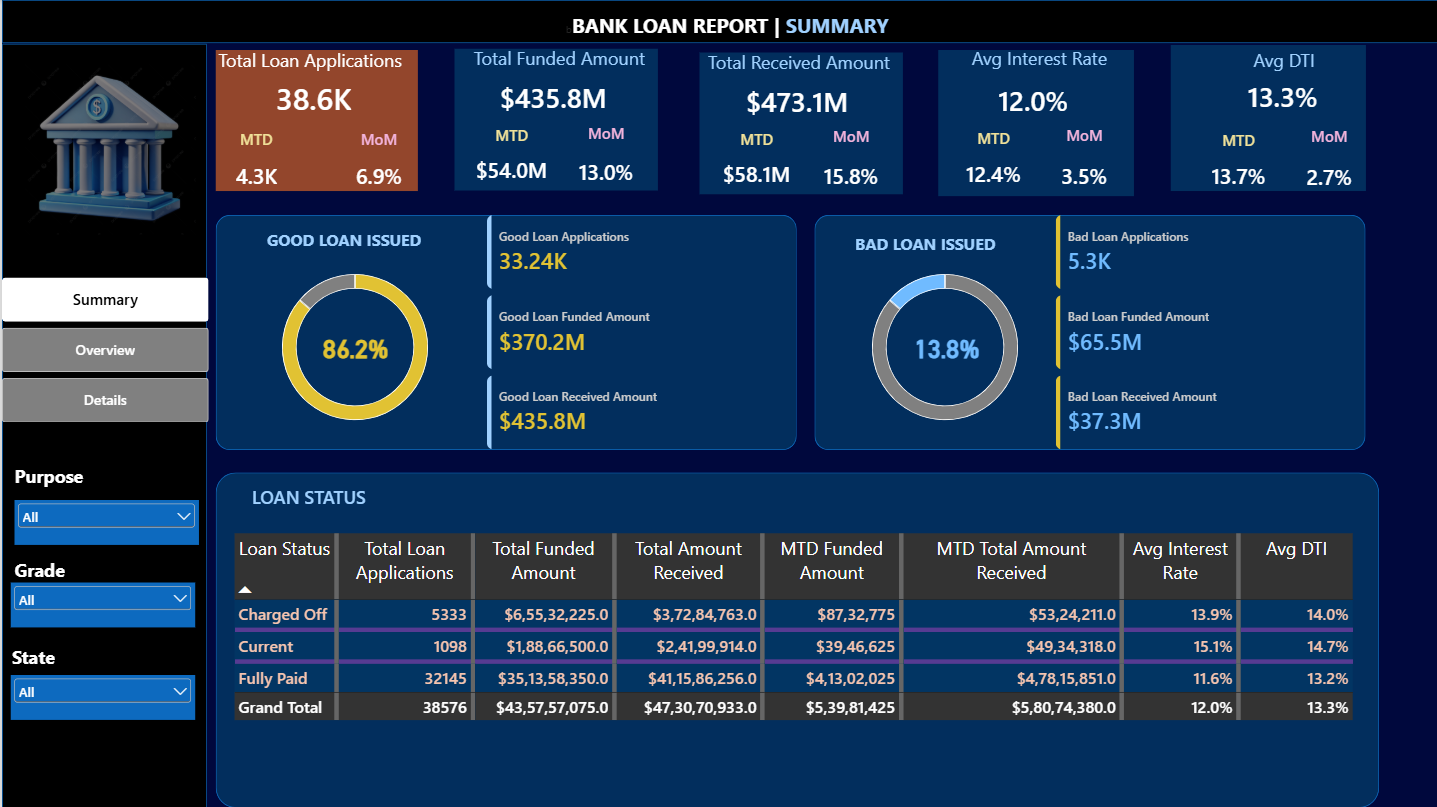

What the dashboard file says about the page in this screenshot:
{"tool":"powerbi","page":{"name":"Summary","canvas":[1920,1080],"ordinal":0},"visuals":[{"type":"shape","box":[1562,60,260.7,195],"z":0,"group":"g5"},{"type":"shape","box":[605.3,65.8,271.7,189.4],"z":0,"group":"g2"},{"type":"shape","box":[1251.3,65.9,261.4,195.4],"z":0,"group":"g4"},{"type":"shape","box":[286,68.1,270,188.4],"z":0,"group":"g1"},{"type":"shape","box":[930.4,69.9,271.7,189.4],"z":0,"group":"g3"},{"type":"shape","box":[286,288,776,314],"z":0},{"type":"shape","box":[0,0,1920.4,57.6],"z":1000},{"type":"cardVisual","fields":{"Data":["financial_loan.Avg DTI"]},"box":[1627.7,91.8,169.9,72.1],"z":1000,"group":"g5"},{"type":"cardVisual","fields":{"Data":["financial_loan.Total Funded Amount"]},"box":[648.7,95.1,177,70],"z":1000,"group":"g2"},{"type":"cardVisual","fields":{"Data":["financial_loan.Avg Interest Rate"]},"box":[1293,96.2,170.3,72.2],"z":1000,"group":"g4"},{"type":"cardVisual","fields":{"Data":["financial_loan.Total Loan Applications"]},"box":[329,96.8,175.9,67.6],"z":1000,"group":"g1"},{"type":"cardVisual","fields":{"Data":["financial_loan.Total Amount Received"]},"box":[973.8,99.3,177,70],"z":1000,"group":"g3"},{"type":"shape","box":[0,57.6,273.8,1023],"z":2000},{"type":"textbox","box":[613.5,61.7,263.5,65.9],"z":2000,"group":"g2"},{"type":"textbox","box":[1259.2,61.7,253.5,68],"z":2000,"group":"g4"},{"type":"textbox","box":[290,64,266,66],"z":2000,"group":"g1"},{"type":"textbox","box":[1587.1,64.1,252.8,67.8],"z":2000,"group":"g5"},{"type":"textbox","box":[926.2,66.1,275.8,65.9],"z":2000,"group":"g3"},{"type":"cardVisual","title":"MTD","fields":{"Data":["financial_loan.MTD Funded Amount"]},"box":[617.8,167.2,129.7,78.2],"z":3000,"group":"g2"},{"type":"cardVisual","title":"MTD","fields":{"Data":["financial_loan.MTD Avg Int Rate"]},"box":[1263.3,170.6,124.8,80.7],"z":3000,"group":"g4"},{"type":"cardVisual","title":"MTD","fields":{"Data":["financial_loan.MTD Total Amount Received"]},"box":[942.9,171.3,129.7,78.2],"z":3000,"group":"g3"},{"type":"cardVisual","title":"MTD","fields":{"Data":["financial_loan.MTD Loan Applications"]},"box":[294.2,172.5,92,84],"z":3000,"group":"g1"},{"type":"cardVisual","title":"MTD","fields":{"Data":["financial_loan.MTD Avg DTI"]},"box":[1591.2,172.7,124.4,80.6],"z":3000,"group":"g5"},{"type":"cardVisual","fields":{"Data":["financial_loan.Good Loan %"]},"box":[404,432,136,68],"z":3000},{"type":"textbox","box":[753.3,14.4,461.1,59.7],"z":4000},{"type":"cardVisual","title":"MoM","fields":{"Data":["financial_loan.MoM Total Funded Amount"]},"box":[747.5,163.1,121.4,88.5],"z":4000,"group":"g2"},{"type":"cardVisual","title":"MoM","fields":{"Data":["financial_loan.MoM Avg Int Rate"]},"box":[1388.1,166.3,116.8,91.3],"z":4000,"group":"g4"},{"type":"cardVisual","title":"MoM","fields":{"Data":["financial_loan.MoM Total Amount Received"]},"box":[1072.6,167.2,121.4,88.5],"z":4000,"group":"g3"},{"type":"cardVisual","title":"MoM","fields":{"Data":["financial_loan.MoM Avg DTI"]},"box":[1715.6,168.5,116.5,91.2],"z":4000,"group":"g5"},{"type":"cardVisual","title":"MoM","fields":{"Data":["financial_loan.MoM Loan Application"]},"box":[453.7,172.5,102.3,81.9],"z":4000,"group":"g1"},{"type":"group","id":"g1","title":"Group 1","box":[286,64,270,192.5],"z":5000},{"type":"group","id":"g2","title":"Group 1","box":[605.3,61.7,271.7,193.5],"z":6000},{"type":"group","id":"g3","title":"Group 1","box":[926.2,66.1,275.9,193.2],"z":7000},{"type":"group","id":"g4","title":"Group 1","box":[1251.3,61.7,261.4,199.7],"z":8000},{"type":"donutChart","fields":{"Category":["financial_loan.Good v Bad Loan"],"Y":["financial_loan.Total Loan Applications"]},"box":[300,328,342,274],"z":9000},{"type":"shape","box":[286,632,1554,448],"z":10000},{"type":"group","id":"g5","title":"Group 1","box":[1562,60,278,200],"z":11000},{"type":"shape","box":[1086,288,736,314],"z":12000},{"type":"textbox","box":[354,306,236,46],"z":13000},{"type":"cardVisual","fields":{"Data":["financial_loan.Good Loan Applications","financial_loan.Good Loan Funded Amount","financial_loan.Good Loan Received Amount"]},"box":[648,288,414,314],"z":14000},{"type":"donutChart","fields":{"Category":["financial_loan.Good v Bad Loan"],"Y":["financial_loan.Total Loan Applications"]},"box":[1088,328,342,274],"z":15000},{"type":"textbox","box":[1106,310,252,42],"z":16000},{"type":"cardVisual","fields":{"Data":["financial_loan.Bad Loan %"]},"box":[1194,432,136,68],"z":17000},{"type":"cardVisual","fields":{"Data":["financial_loan.Bad Loan Applications","financial_loan.Bad Loan Funded Amount","financial_loan.Bad Loan Received Amount"]},"box":[1408,288,414,314],"z":18000},{"type":"tableEx","fields":{"Values":["financial_loan.loan_status","financial_loan.Total Loan Applications","financial_loan.Total Funded Amount","financial_loan.Total Amount Received","financial_loan.MTD Funded Amount","financial_loan.MTD Total Amount Received","financial_loan.Avg Interest Rate","financial_loan.Avg DTI"]},"box":[294,698,1528,326],"z":19000},{"type":"textbox","box":[276,74,1644,150],"z":20000},{"type":"textbox","box":[334,648,176,50],"z":21000},{"type":"slicer","fields":{"Values":["financial_loan.address_state"]},"box":[12,902,246,60],"z":22000},{"type":"textbox","box":[14,862,86,34],"z":23000},{"type":"slicer","fields":{"Values":["financial_loan.grade"]},"box":[12,778,246,60],"z":24000},{"type":"textbox","box":[16,744,86,34],"z":25000},{"type":"slicer","fields":{"Values":["financial_loan.purpose"]},"box":[16,668,246,60],"z":26000},{"type":"textbox","box":[16,620,124,48],"z":27000},{"type":"image","box":[28,68,230,260],"z":27001},{"type":"pageNavigator","box":[0,370,276,194],"z":27002}]}

Visuals, with their boxes in screenshot pixels (x1, y1, x2, y2), scaled from the page's 1920x1080 canvas onto the 1437x807 screenshot:
shape: x1=1169, y1=45, x2=1364, y2=191
shape: x1=453, y1=49, x2=656, y2=191
shape: x1=937, y1=49, x2=1132, y2=195
shape: x1=214, y1=51, x2=416, y2=192
shape: x1=696, y1=52, x2=900, y2=194
shape: x1=214, y1=215, x2=795, y2=450
shape: x1=0, y1=0, x2=1436, y2=43
cardVisual - financial_loan.Avg DTI: x1=1218, y1=69, x2=1345, y2=122
cardVisual - financial_loan.Total Funded Amount: x1=486, y1=71, x2=618, y2=123
cardVisual - financial_loan.Avg Interest Rate: x1=968, y1=72, x2=1095, y2=126
cardVisual - financial_loan.Total Loan Applications: x1=246, y1=72, x2=378, y2=123
cardVisual - financial_loan.Total Amount Received: x1=729, y1=74, x2=861, y2=127
shape: x1=0, y1=43, x2=205, y2=806
textbox: x1=459, y1=46, x2=656, y2=95
textbox: x1=942, y1=46, x2=1132, y2=97
textbox: x1=217, y1=48, x2=416, y2=97
textbox: x1=1188, y1=48, x2=1377, y2=99
textbox: x1=693, y1=49, x2=900, y2=99
"MTD" cardVisual: x1=462, y1=125, x2=559, y2=183
"MTD" cardVisual: x1=946, y1=127, x2=1039, y2=188
"MTD" cardVisual: x1=706, y1=128, x2=803, y2=186
"MTD" cardVisual: x1=220, y1=129, x2=289, y2=192
"MTD" cardVisual: x1=1191, y1=129, x2=1284, y2=189
cardVisual - financial_loan.Good Loan %: x1=302, y1=323, x2=404, y2=374
textbox: x1=564, y1=11, x2=909, y2=55
"MoM" cardVisual: x1=559, y1=122, x2=650, y2=188
"MoM" cardVisual: x1=1039, y1=124, x2=1126, y2=192
"MoM" cardVisual: x1=803, y1=125, x2=894, y2=191
"MoM" cardVisual: x1=1284, y1=126, x2=1371, y2=194
"MoM" cardVisual: x1=340, y1=129, x2=416, y2=190
"Group 1" group: x1=214, y1=48, x2=416, y2=192
"Group 1" group: x1=453, y1=46, x2=656, y2=191
"Group 1" group: x1=693, y1=49, x2=900, y2=194
"Group 1" group: x1=937, y1=46, x2=1132, y2=195
donutChart - financial_loan.Good v Bad Loan x financial_loan.Total Loan Applications: x1=225, y1=245, x2=480, y2=450
shape: x1=214, y1=472, x2=1377, y2=806
"Group 1" group: x1=1169, y1=45, x2=1377, y2=194
shape: x1=813, y1=215, x2=1364, y2=450
textbox: x1=265, y1=229, x2=442, y2=263
cardVisual - financial_loan.Good Loan Applications x financial_loan.Good Loan Funded Amount: x1=485, y1=215, x2=795, y2=450
donutChart - financial_loan.Good v Bad Loan x financial_loan.Total Loan Applications: x1=814, y1=245, x2=1070, y2=450
textbox: x1=828, y1=232, x2=1016, y2=263
cardVisual - financial_loan.Bad Loan %: x1=894, y1=323, x2=995, y2=374
cardVisual - financial_loan.Bad Loan Applications x financial_loan.Bad Loan Funded Amount: x1=1054, y1=215, x2=1364, y2=450
tableEx - financial_loan.loan_status x financial_loan.Total Loan Applications: x1=220, y1=522, x2=1364, y2=765
textbox: x1=207, y1=55, x2=1436, y2=167
textbox: x1=250, y1=484, x2=382, y2=522
slicer - financial_loan.address_state: x1=9, y1=674, x2=193, y2=719
textbox: x1=10, y1=644, x2=75, y2=670
slicer - financial_loan.grade: x1=9, y1=581, x2=193, y2=626
textbox: x1=12, y1=556, x2=76, y2=581
slicer - financial_loan.purpose: x1=12, y1=499, x2=196, y2=544
textbox: x1=12, y1=463, x2=105, y2=499
image: x1=21, y1=51, x2=193, y2=245
pageNavigator: x1=0, y1=276, x2=207, y2=421
